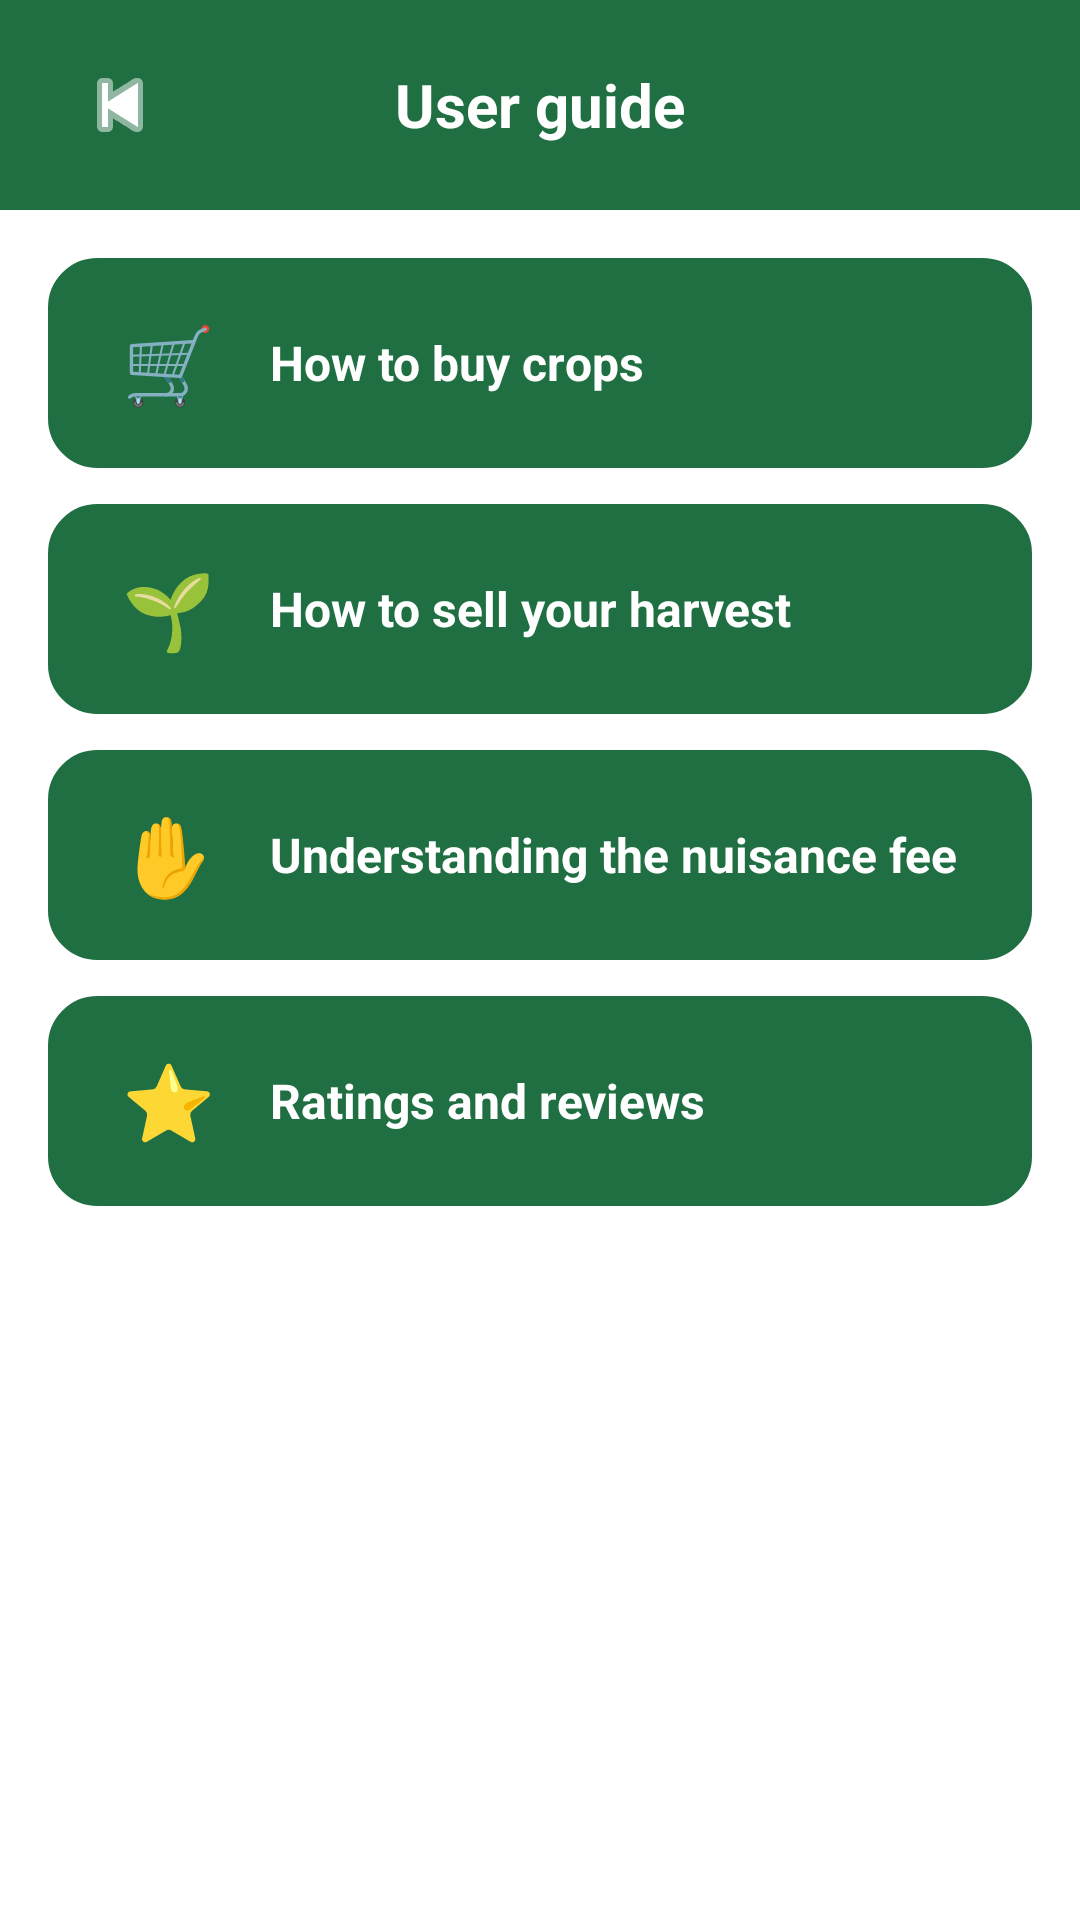

Where icons sit on this 1080x1920 app screen, as (x1, y1, x2, y2):
Back: (97, 78, 143, 132)
